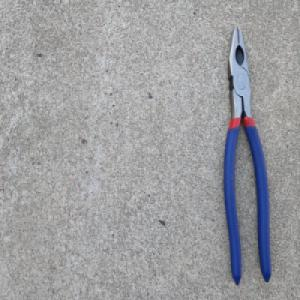Pliers: (221, 21, 272, 289)
